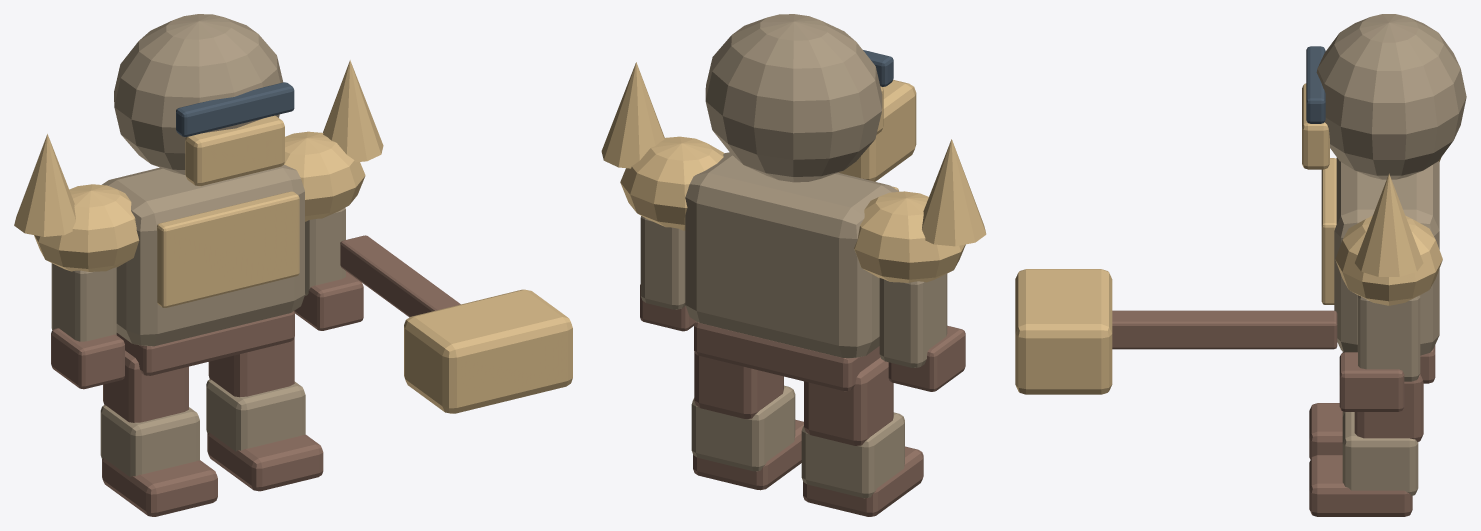
File: enemy_brute.glb
3 renders of one model, left to right at view 1: azimuth 30°, elevation 25°; view 2: azimuth 150°, elevation 25°; view 3: azimuth 270°, elevation 25°, orthographic. The views are drawn at different scales.
Parts seen in each view (by area): view 1: Chest, WarHammerHead, Helm, Breastplate, Shoulder, Greave, Greave.001, BruteJawGuard, Waist, Shoulder.001, WarHammerHandle, Boot.001 (+10 smaller); view 2: Chest, Helm, Shoulder, Waist, Greave.001, Greave, Shoulder.001, Arm, Thigh, Thigh.001, BruteShoulderSpike, WarHammerHead (+7 smaller); view 3: Helm, WarHammerHead, WarHammerHandle, Chest, Arm.001, Greave.001, Shoulder.001, Boot.001, BruteShoulderSpike.001, Gauntlet.001, Thigh.001, Breastplate (+3 smaller).
Part boxes in pixels (x1=…): Chest: x1=102, y1=164, x2=304, y2=346; WarHammerHead: x1=404, y1=289, x2=572, y2=413; Helm: x1=114, y1=14, x2=282, y2=174; Breastplate: x1=157, y1=191, x2=299, y2=307; Shoulder: x1=34, y1=184, x2=139, y2=271; Greave: x1=100, y1=405, x2=199, y2=477; Greave.001: x1=206, y1=379, x2=305, y2=451; BruteJawGuard: x1=185, y1=115, x2=284, y2=186; Waist: x1=116, y1=311, x2=294, y2=375; Shoulder.001: x1=284, y1=131, x2=365, y2=221; WarHammerHandle: x1=340, y1=235, x2=460, y2=317; Boot.001: x1=207, y1=432, x2=323, y2=491; Chest: x1=685, y1=152, x2=899, y2=358; Helm: x1=705, y1=14, x2=882, y2=182; Shoulder: x1=854, y1=191, x2=965, y2=282; Waist: x1=694, y1=321, x2=880, y2=391; Greave.001: x1=691, y1=385, x2=795, y2=471; Greave: x1=801, y1=412, x2=904, y2=498; Shoulder.001: x1=620, y1=136, x2=724, y2=230; Arm: x1=879, y1=274, x2=947, y2=367; Thigh: x1=804, y1=357, x2=893, y2=445; Thigh.001: x1=694, y1=352, x2=783, y2=419; BruteShoulderSpike: x1=922, y1=139, x2=986, y2=246; WarHammerHead: x1=838, y1=79, x2=916, y2=181; Helm: x1=1316, y1=14, x2=1466, y2=179; WarHammerHead: x1=1015, y1=269, x2=1112, y2=394; WarHammerHandle: x1=1112, y1=310, x2=1337, y2=349; Chest: x1=1334, y1=158, x2=1439, y2=355; Arm.001: x1=1358, y1=295, x2=1420, y2=381; Greave.001: x1=1342, y1=412, x2=1418, y2=495; Shoulder.001: x1=1335, y1=215, x2=1442, y2=305; Boot.001: x1=1309, y1=455, x2=1412, y2=516; BruteShoulderSpike.001: x1=1355, y1=173, x2=1423, y2=276; Gauntlet.001: x1=1339, y1=352, x2=1404, y2=411; Thigh.001: x1=1354, y1=374, x2=1423, y2=441; Breastplate: x1=1321, y1=158, x2=1336, y2=304.
Bounding box in the file's own units: 2.01 × 2.32 × 2.1.
